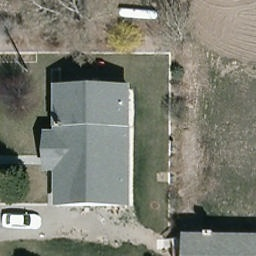car: (0, 214, 42, 230)
